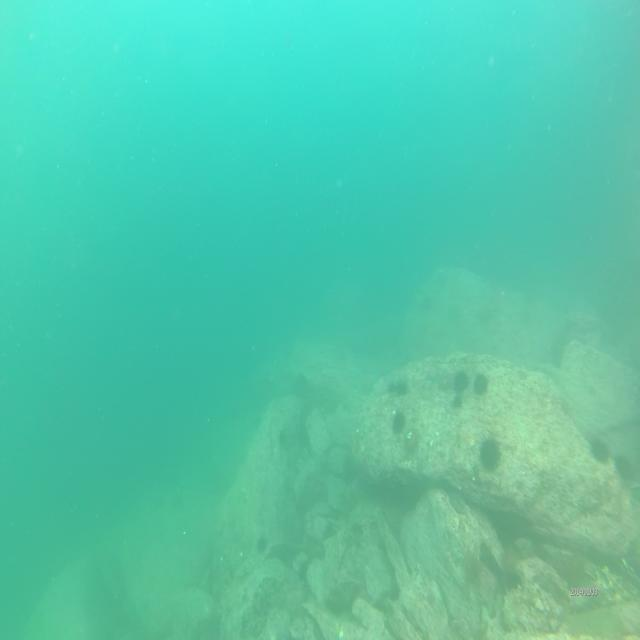echinus: (476, 433, 504, 475), (494, 546, 522, 587), (590, 437, 612, 465), (390, 408, 408, 438), (615, 451, 633, 480), (454, 368, 470, 396), (472, 370, 489, 396), (405, 425, 419, 453), (396, 376, 407, 396)
